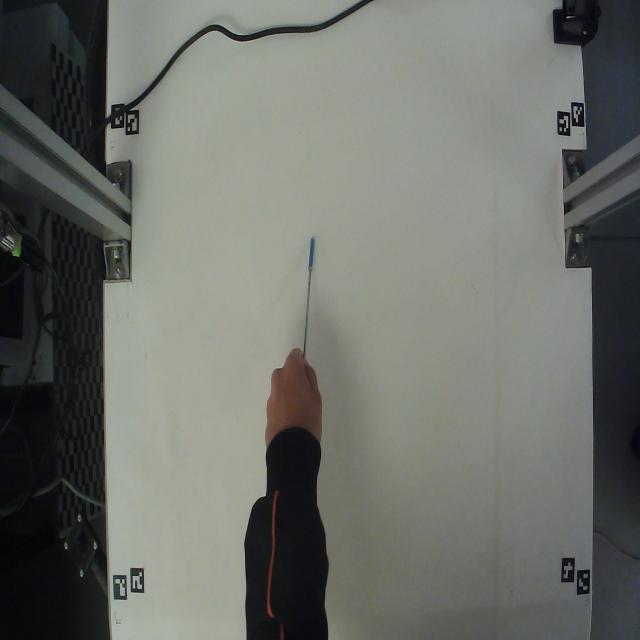Pres: (284, 204, 326, 373)
